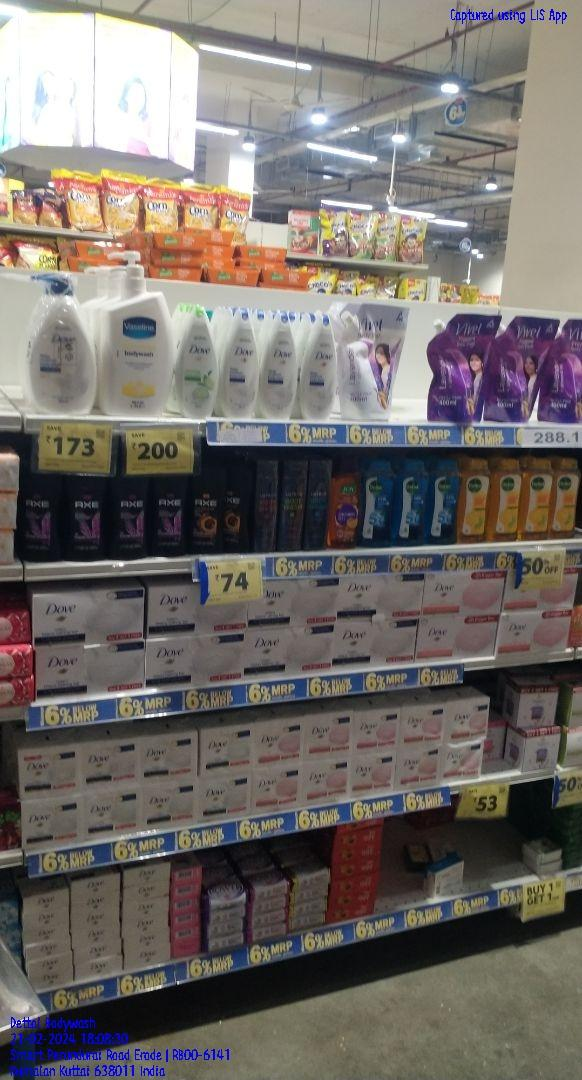Dettol_Bodywash_Cool: (359, 454, 395, 546), (428, 459, 457, 543), (398, 459, 425, 546)
Dettol_Bodywash_Refresh: (491, 459, 522, 543), (460, 456, 487, 543), (552, 457, 577, 538), (524, 460, 549, 540)
Dove_Gentle_Exfoliating_Body_Wash_250ML: (301, 312, 338, 421), (262, 312, 298, 420), (222, 308, 257, 419)
Dove_Refreshing_Body_Wash_250ML: (177, 306, 219, 417)
